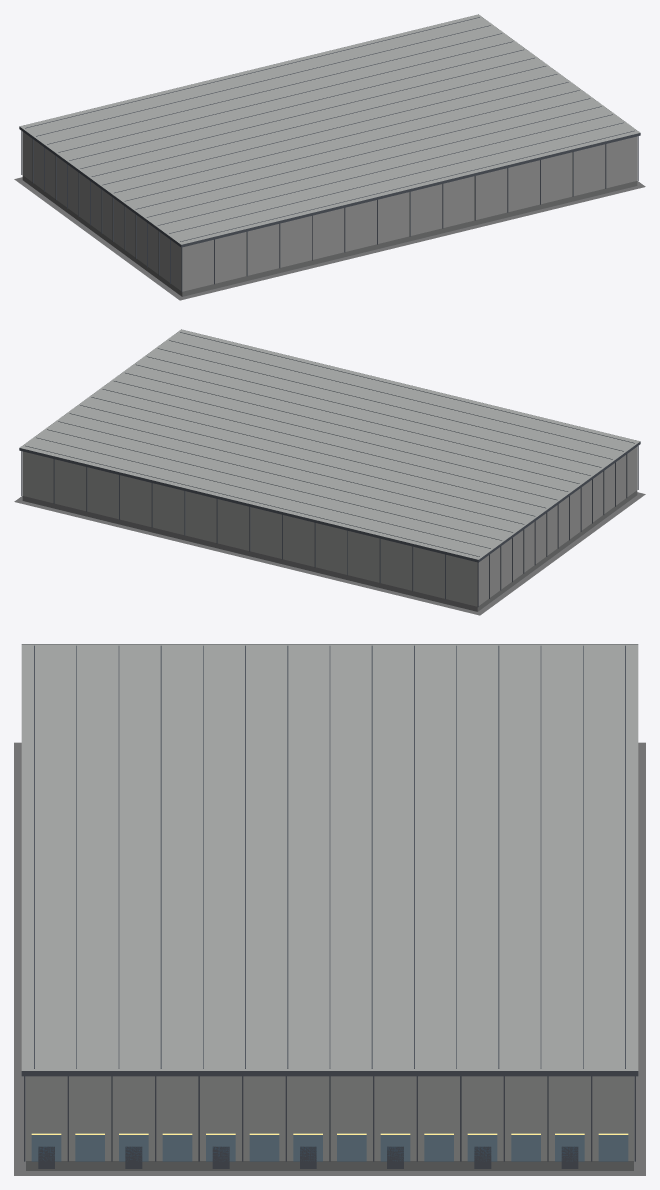
The model's file is shell.glb.
The picture shows the model from 3 angles, top to bottom: view 1: azimuth 30°, elevation 25°; view 2: azimuth 150°, elevation 25°; view 3: azimuth 270°, elevation 25°; orthographic projection. The views are drawn at different scales.
Visible parts, largest first — view 1: shell_roof_canopy, shell_bowl_mass_cladding, shell_roof_canopy_fascia, shell_bowl_mass_plinth, shell_field_floor_apron, shell_bowl_mass_facade_panels; view 2: shell_roof_canopy, shell_bowl_mass_cladding, shell_roof_canopy_fascia, shell_bowl_mass_plinth, shell_field_floor_apron, shell_bowl_mass_facade_panels; view 3: shell_roof_canopy, shell_bowl_mass_cladding, shell_roof_canopy_fascia, shell_field_floor_apron, shell_bowl_mass_suite_glass_lobby, shell_bowl_mass_plinth, shell_bowl_mass_portal_frames, shell_bowl_mass_facade_panels, shell_ribbon_led_entry_static.
Boxes of the visible parts, x1,y1,x2,y2 form: shell_roof_canopy: (20, 14, 639, 244); shell_bowl_mass_cladding: (22, 132, 637, 291); shell_roof_canopy_fascia: (19, 14, 640, 247); shell_bowl_mass_plinth: (22, 175, 637, 296); shell_field_floor_apron: (14, 177, 645, 300); shell_bowl_mass_facade_panels: (21, 131, 638, 291); shell_roof_canopy: (20, 329, 639, 559); shell_bowl_mass_cladding: (22, 447, 637, 606); shell_roof_canopy_fascia: (19, 329, 640, 562); shell_bowl_mass_plinth: (22, 490, 637, 611); shell_field_floor_apron: (14, 492, 645, 615); shell_bowl_mass_facade_panels: (21, 446, 638, 606); shell_roof_canopy: (21, 644, 638, 1070); shell_bowl_mass_cladding: (26, 1076, 633, 1160); shell_roof_canopy_fascia: (21, 644, 638, 1076); shell_field_floor_apron: (14, 742, 645, 1175); shell_bowl_mass_suite_glass_lobby: (31, 1135, 628, 1161); shell_bowl_mass_plinth: (26, 1161, 633, 1170); shell_bowl_mass_portal_frames: (38, 1146, 578, 1168); shell_bowl_mass_facade_panels: (24, 1076, 635, 1161); shell_ribbon_led_entry_static: (31, 1133, 628, 1134).
Bounding box in the file's own units: 112 × 12.39 × 69.31.
